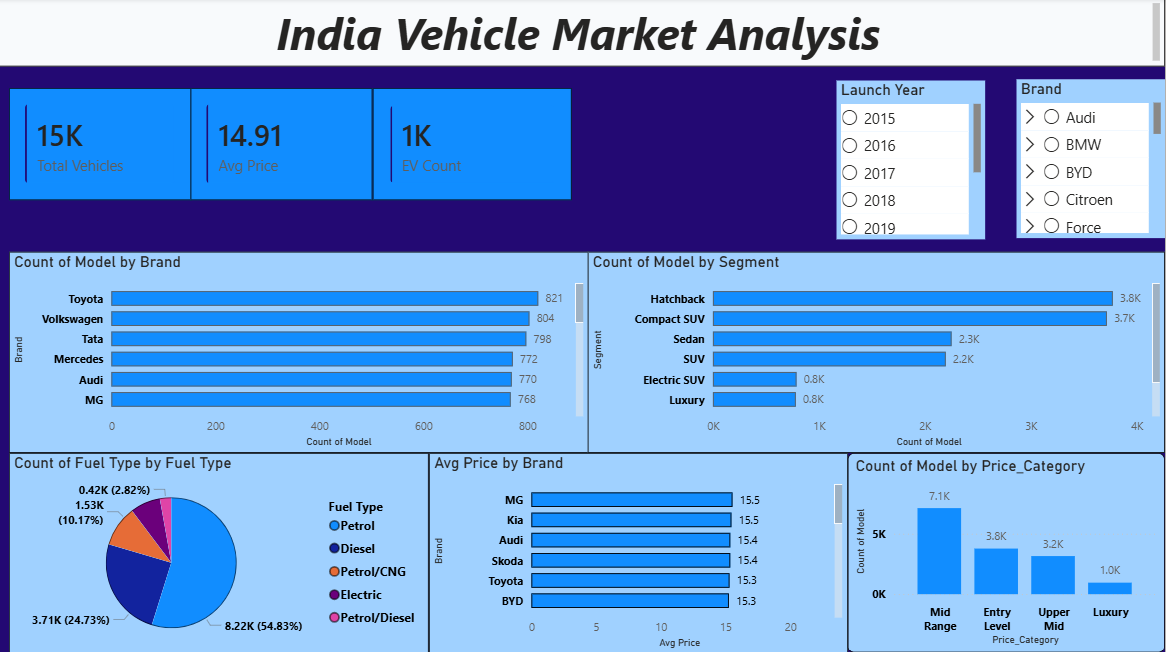

The page's visual inventory and layout, read from the dashboard file:
{"tool":"powerbi","page":{"name":"Page 1","canvas":[1280,720],"ordinal":0},"visuals":[{"type":"cardVisual","fields":{"Data":["Vehicle_Models_India_15k.Avg Price"]},"box":[209.9,98.8,200.3,123.5],"z":0},{"type":"cardVisual","fields":{"Data":["Vehicle_Models_India_15k.EV Count"]},"box":[410.3,98.8,218.2,123.5],"z":1000},{"type":"clusteredBarChart","fields":{"Category":["Vehicle_Models_India_15k.Brand"],"Y":["CountNonNull(Vehicle_Models_India_15k.Model)"]},"box":[11,278.6,636.7,220.9],"z":2000},{"type":"clusteredBarChart","fields":{"Category":["Vehicle_Models_India_15k.Segment"],"Y":["CountNonNull(Vehicle_Models_India_15k.Model)"]},"box":[646.3,278.6,634,220.9],"z":3000},{"type":"clusteredBarChart","fields":{"Y":["Vehicle_Models_India_15k.Avg Price"],"Category":["Vehicle_Models_India_15k.Brand"]},"box":[472,499.5,459.7,220.9],"z":4000},{"type":"pieChart","fields":{"Category":["Vehicle_Models_India_15k.Fuel Type"],"Y":["CountNonNull(Vehicle_Models_India_15k.Fuel Type)"]},"box":[11,499.5,461.1,220.9],"z":5000},{"type":"listSlicer","fields":{"Values":["Vehicle_Models_India_15k.Brand","Vehicle_Models_India_15k.Segment","Vehicle_Models_India_15k.Fuel Type","Vehicle_Models_India_15k.Price_Category"]},"box":[1117,89.2,163.3,174.3],"z":6000},{"type":"textbox","box":[0,0,1280.3,75.5],"z":7000},{"type":"cardVisual","fields":{"Data":["Vehicle_Models_India_15k.Total Vehicles"]},"box":[11,98.8,200.3,123.5],"z":8000},{"type":"clusteredColumnChart","fields":{"Category":["Vehicle_Models_India_15k.Price_Category"],"Y":["CountNonNull(Vehicle_Models_India_15k.Model)"]},"box":[932,500,348,220],"z":9000},{"type":"listSlicer","fields":{"Values":["Vehicle_Models_India_15k.Launch Year"]},"box":[919.4,90.6,163.3,174.3],"z":10000}]}

Visuals, with their boxes in screenshot pixels (x1, y1, x2, y2), scaled from the page's 1280x720 canvas onto the 1166x652 screenshot:
cardVisual - Vehicle_Models_India_15k.Avg Price: <region>191, 89, 374, 201</region>
cardVisual - Vehicle_Models_India_15k.EV Count: <region>374, 89, 573, 201</region>
clusteredBarChart - Vehicle_Models_India_15k.Brand x CountNonNull(Vehicle_Models_India_15k.Model): <region>10, 252, 590, 452</region>
clusteredBarChart - Vehicle_Models_India_15k.Segment x CountNonNull(Vehicle_Models_India_15k.Model): <region>589, 252, 1165, 452</region>
clusteredBarChart - Vehicle_Models_India_15k.Avg Price x Vehicle_Models_India_15k.Brand: <region>430, 452, 849, 651</region>
pieChart - Vehicle_Models_India_15k.Fuel Type x CountNonNull(Vehicle_Models_India_15k.Fuel Type): <region>10, 452, 430, 651</region>
listSlicer - Vehicle_Models_India_15k.Brand x Vehicle_Models_India_15k.Segment: <region>1018, 81, 1165, 239</region>
textbox: <region>0, 0, 1165, 68</region>
cardVisual - Vehicle_Models_India_15k.Total Vehicles: <region>10, 89, 192, 201</region>
clusteredColumnChart - Vehicle_Models_India_15k.Price_Category x CountNonNull(Vehicle_Models_India_15k.Model): <region>849, 453, 1165, 651</region>
listSlicer - Vehicle_Models_India_15k.Launch Year: <region>838, 82, 986, 240</region>
